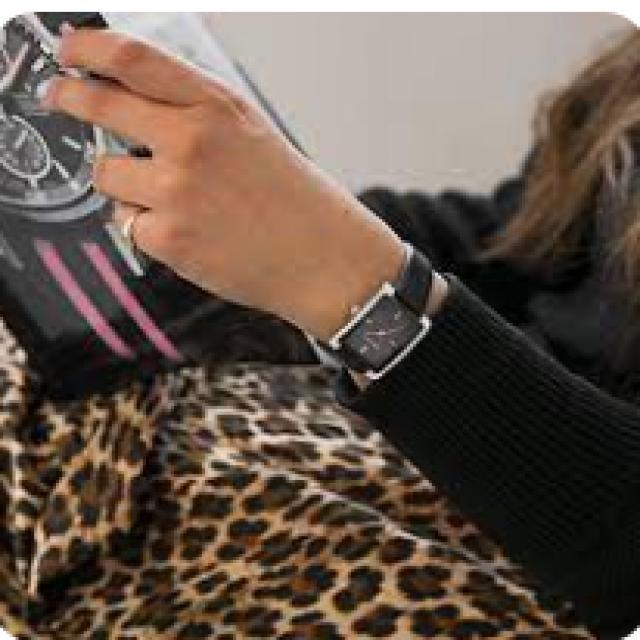Watch: (304, 244, 438, 406)
